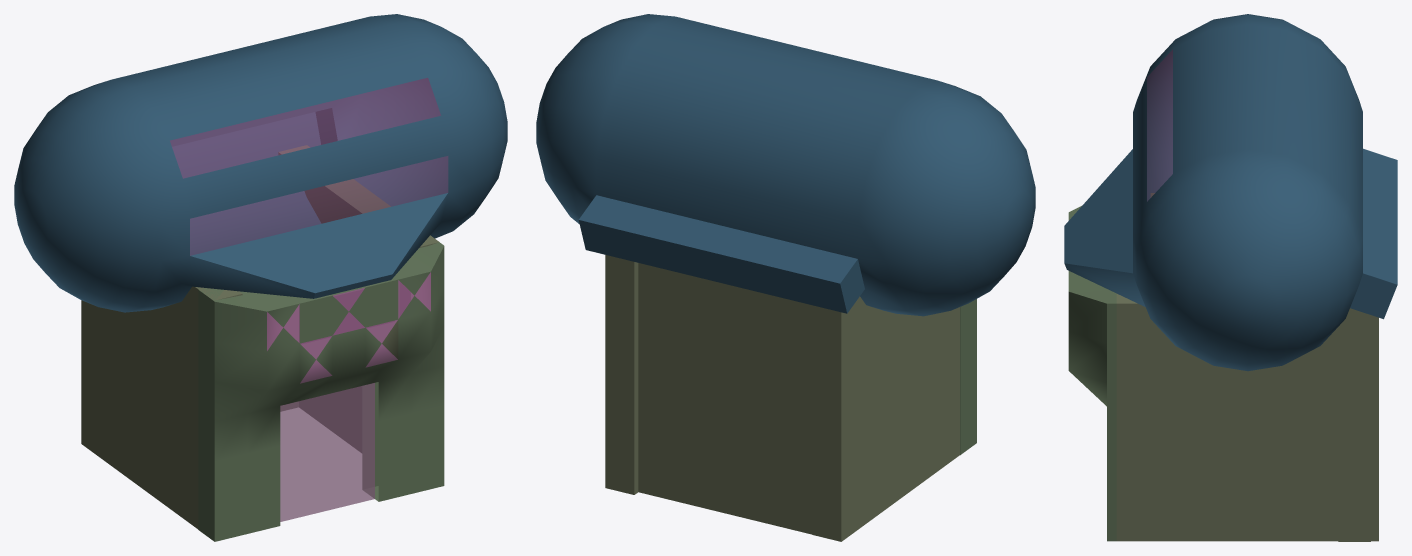
File: bangunan 1.fbx
3 renders of one model, left to right at view 1: azimuth 30°, elevation 25°; view 2: azimuth 150°, elevation 25°; view 3: azimuth 270°, elevation 25°, orthographic. The views are drawn at different scales.
Visible parts, largest first — view 1: pCylinder1, polySurface7, pCube10, polySurface8, pCube9, pCube8; view 2: pCylinder1, pCube8, pCube10, pCube9, polySurface7; view 3: pCylinder1, pCube9, pCube8, polySurface7.
Part boxes in pixels (x1,y1,x2,y2): pCylinder1: [14, 14, 507, 312]; polySurface7: [198, 242, 444, 541]; pCube10: [81, 286, 242, 529]; polySurface8: [280, 383, 374, 521]; pCube9: [278, 145, 438, 452]; pCube8: [267, 306, 298, 411]; pCylinder1: [536, 14, 1035, 316]; pCube8: [638, 263, 812, 534]; pCube10: [812, 296, 959, 541]; pCube9: [605, 255, 638, 494]; polySurface7: [960, 299, 976, 455]; pCylinder1: [1064, 14, 1397, 371]; pCube9: [1116, 294, 1378, 541]; pCube8: [1338, 308, 1370, 541]; polySurface7: [1068, 206, 1116, 541].
Size of the model in its own units: 16.12 by 13.48 by 10.17.
